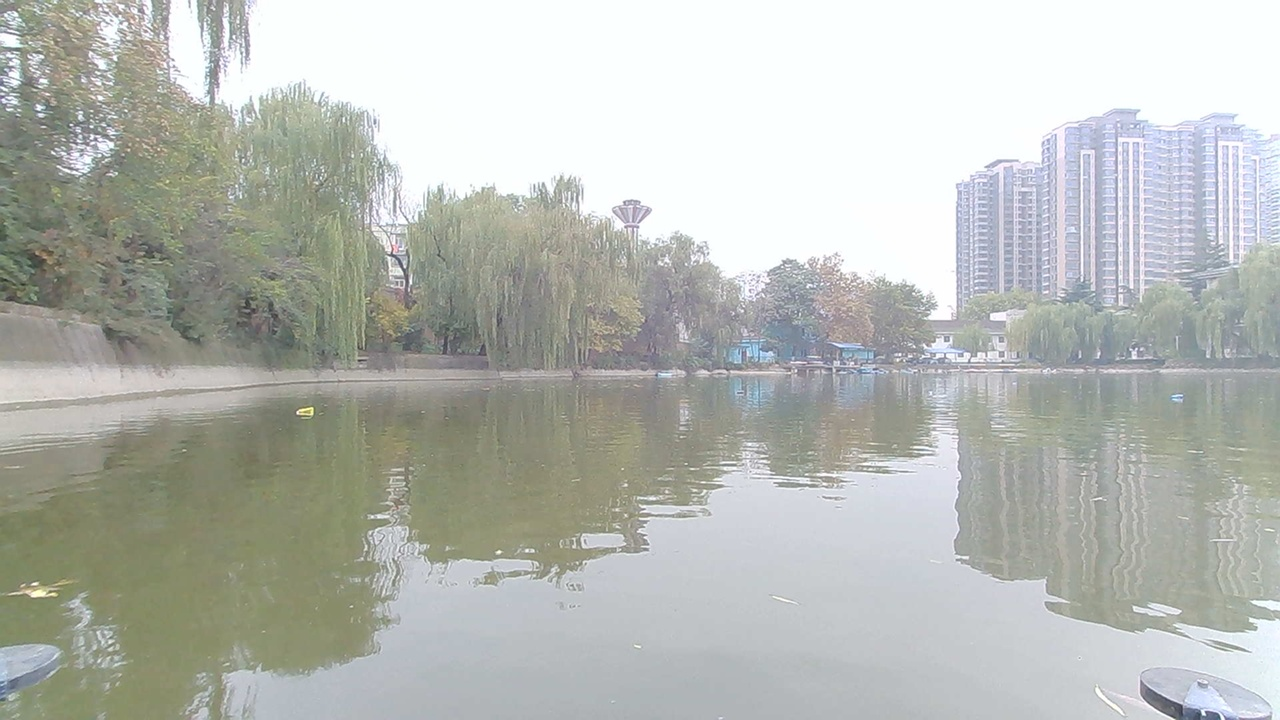bottle: (292, 400, 326, 423), (1168, 385, 1199, 408), (728, 386, 757, 401)
